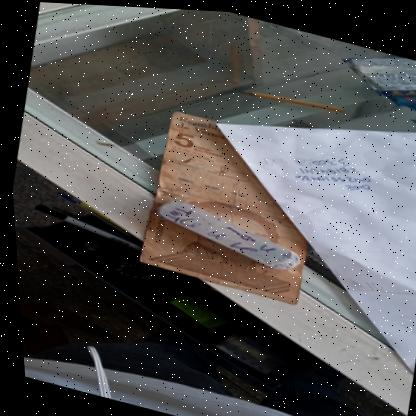vef_front: (126, 103, 327, 304)
